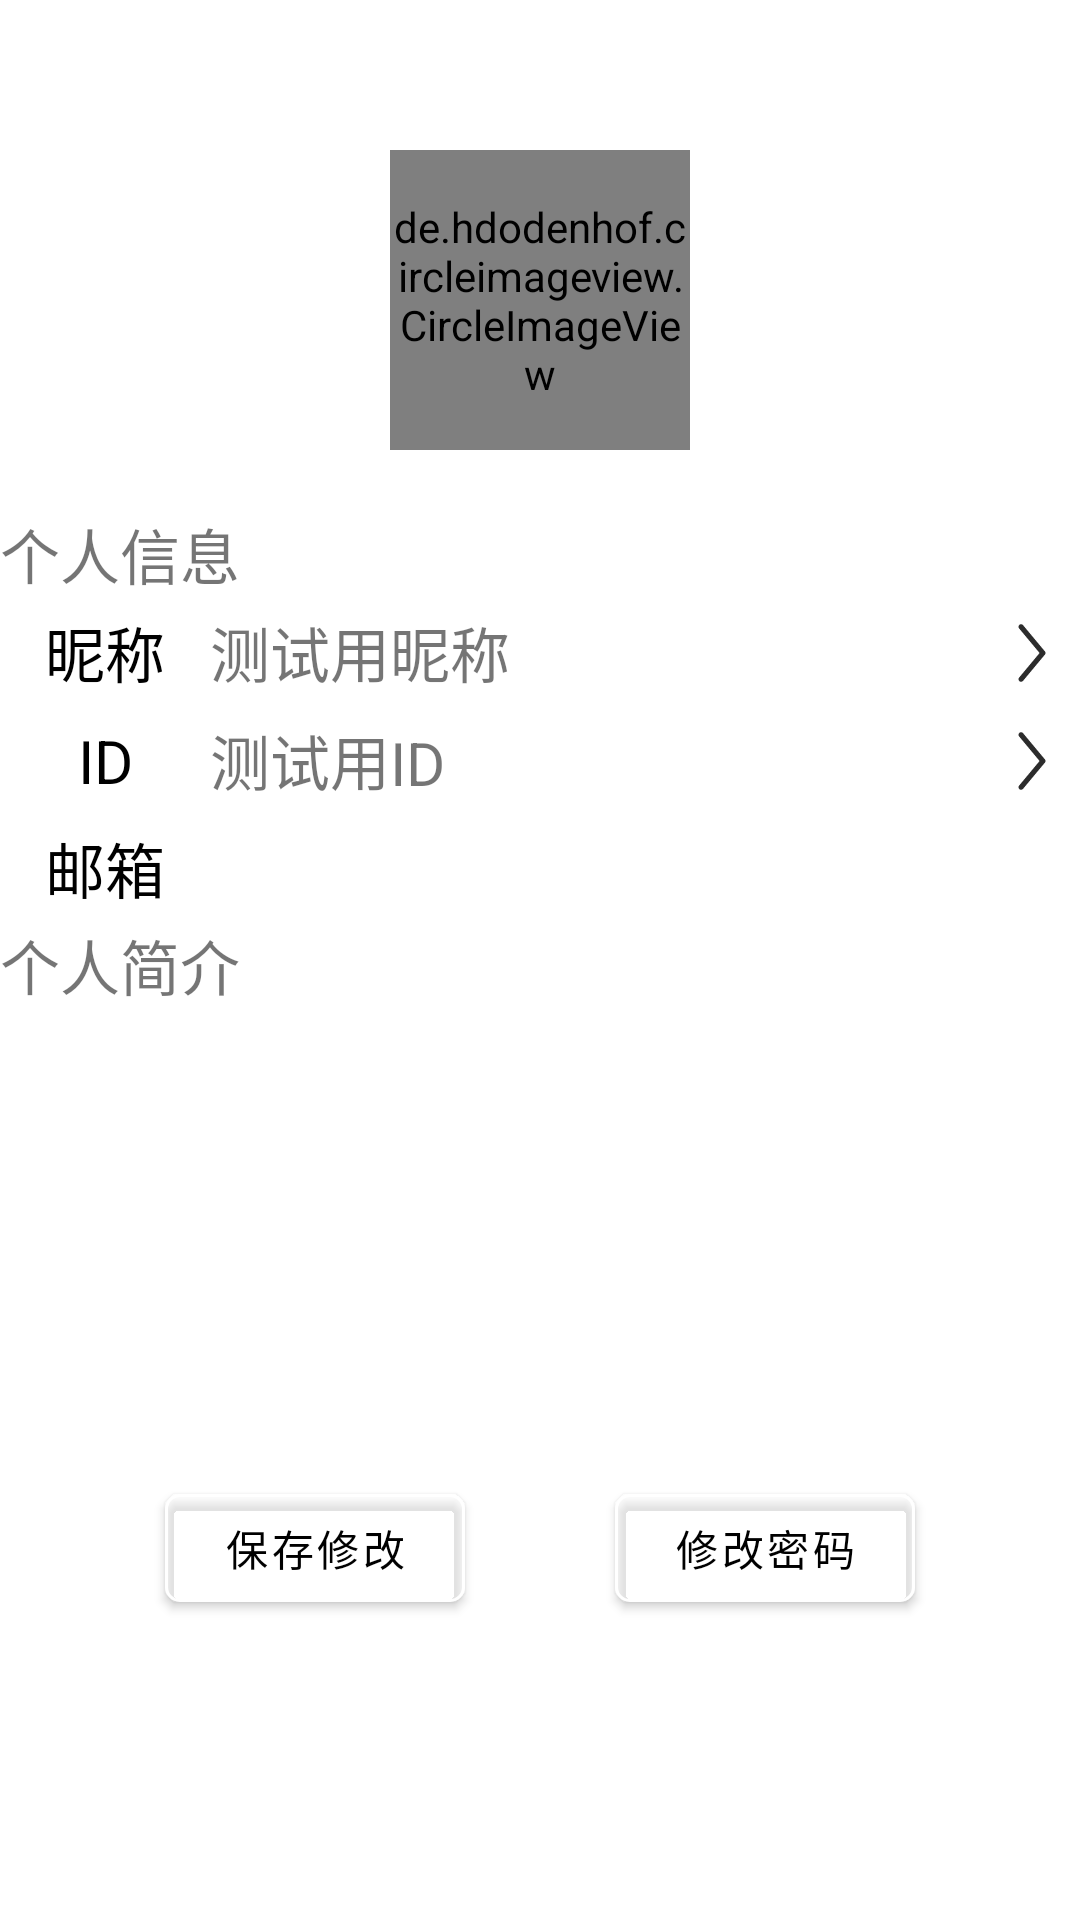

Point at icon controls on the screen. Image size 1080px x 1920px, points as (x=x, y=y).
right content arrow: (x=1032, y=653), (x=1032, y=761)
